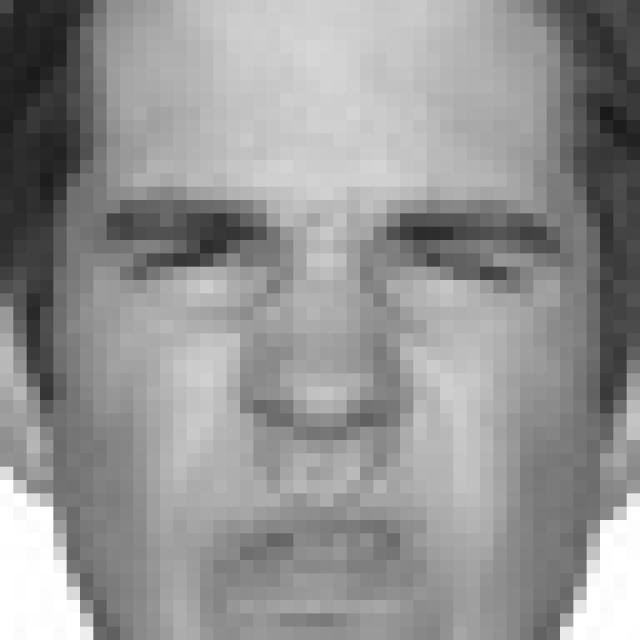disgust: (106, 190, 568, 627)
